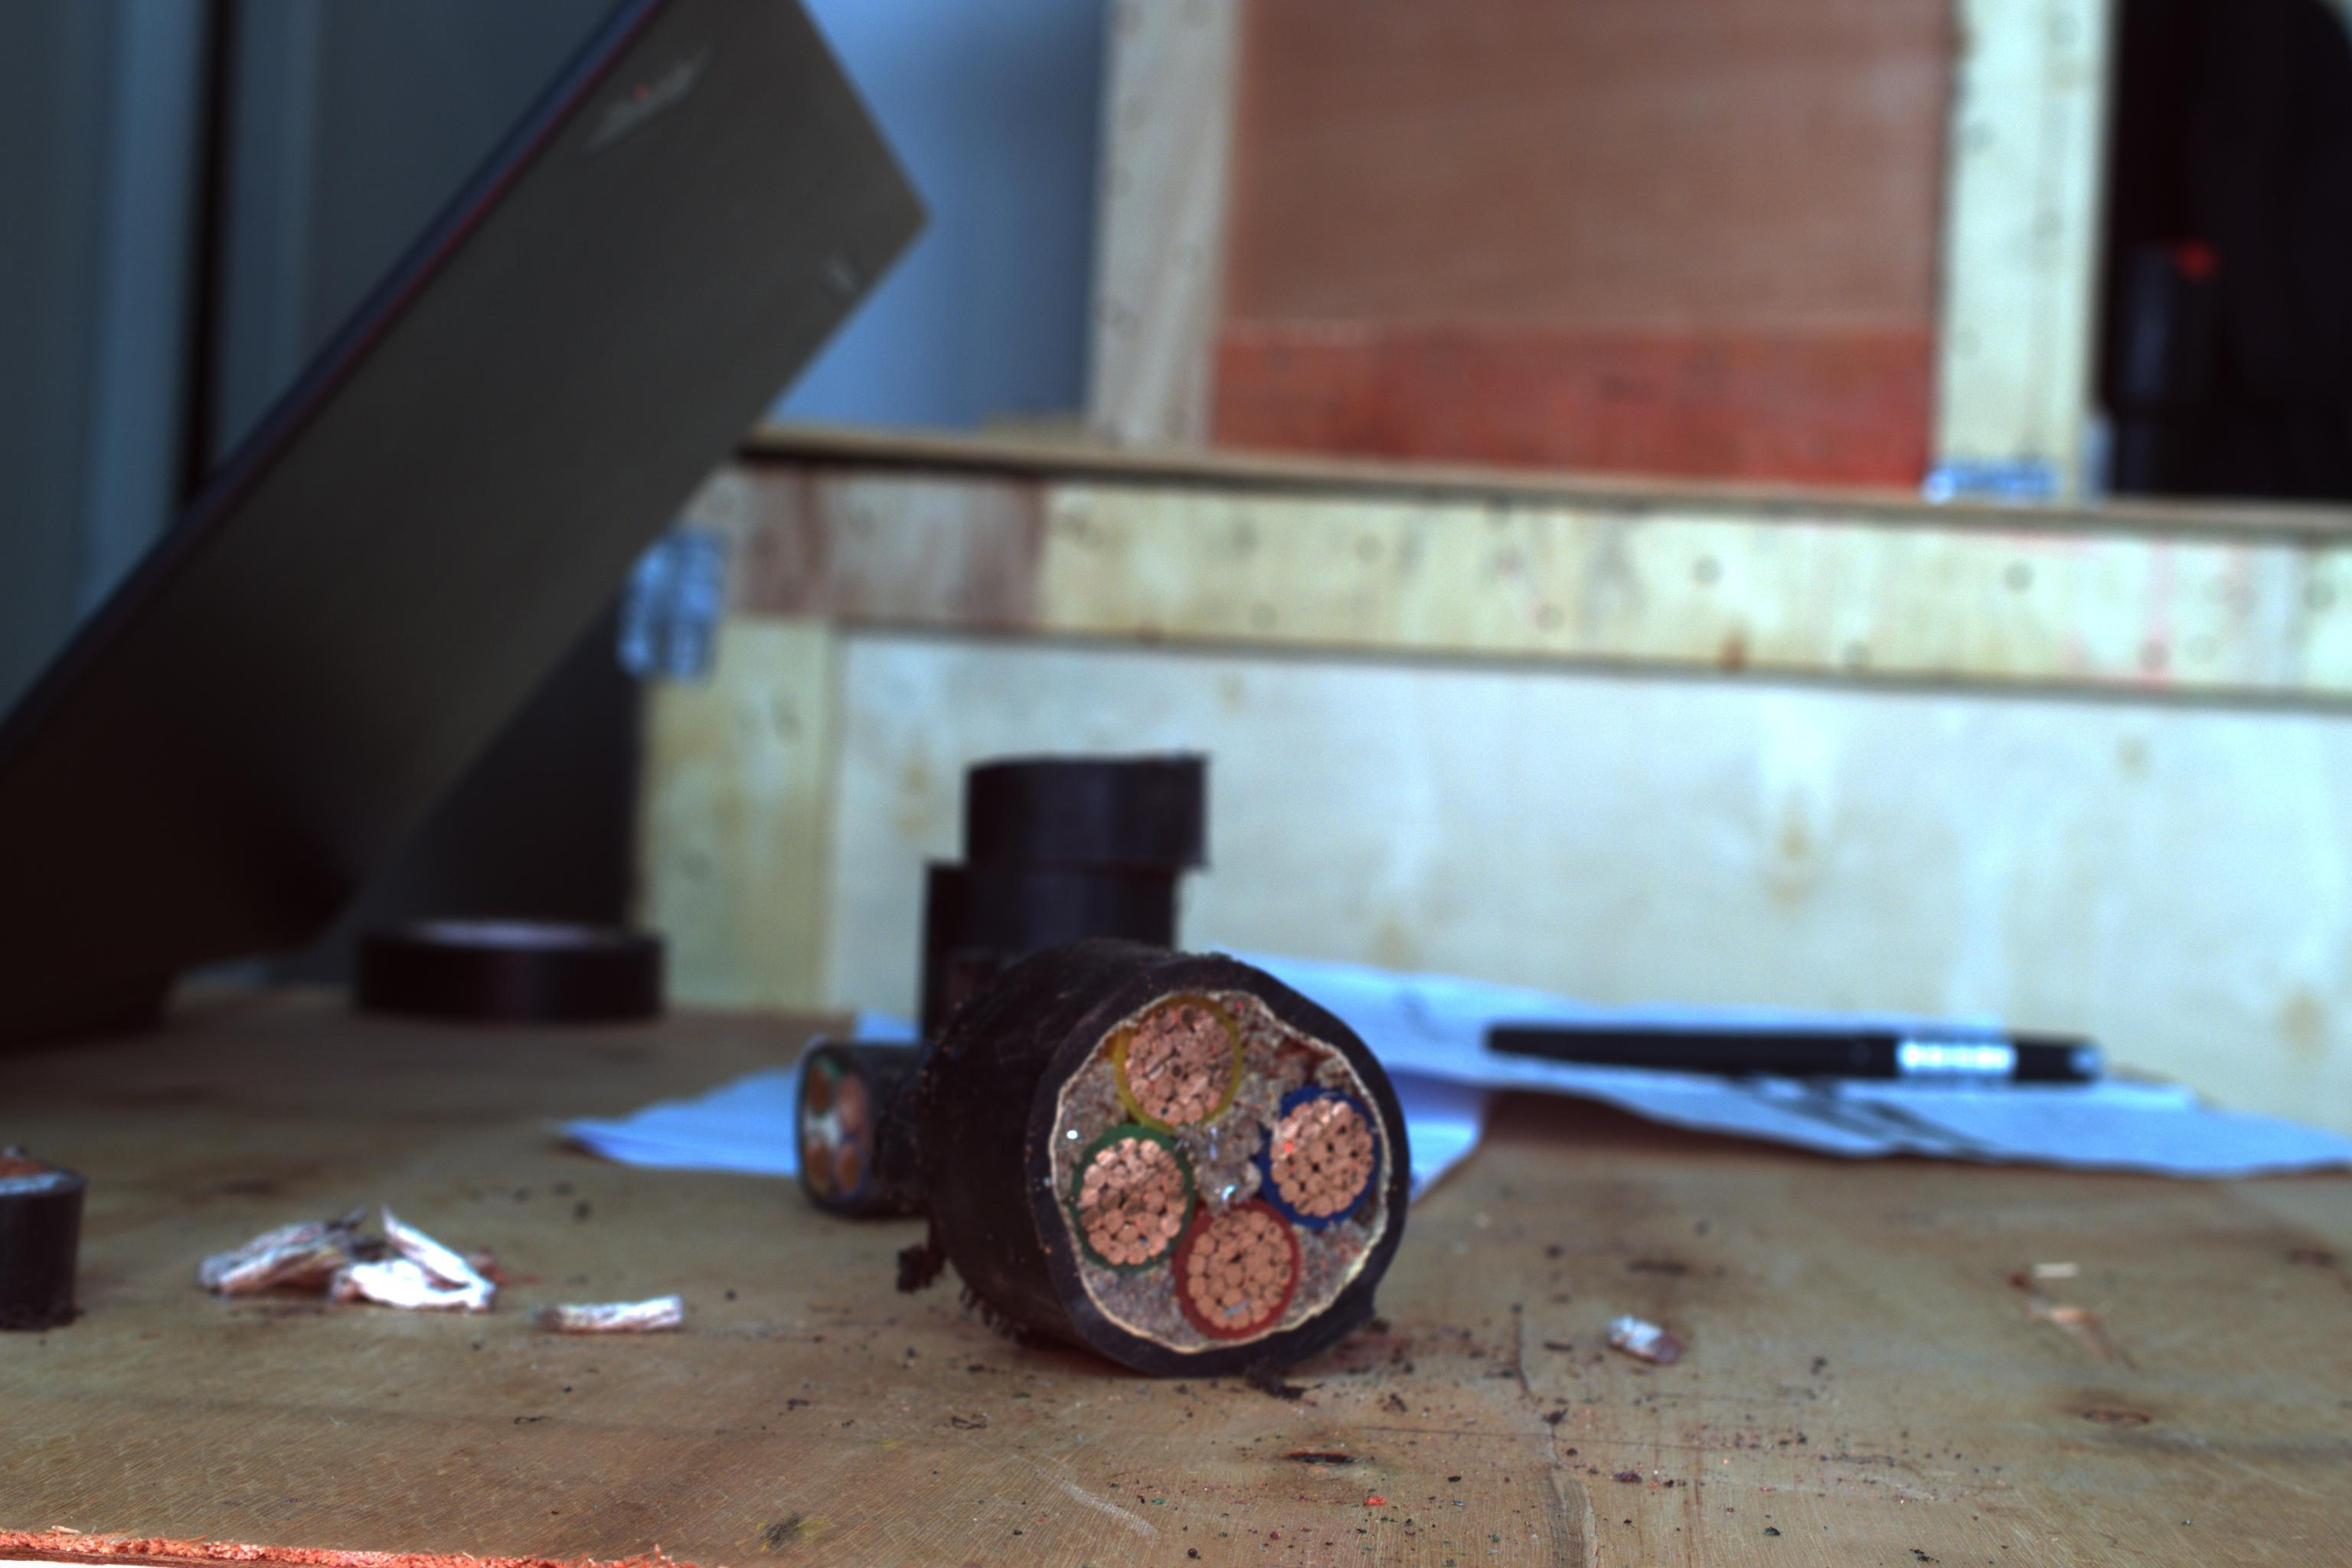YJV_0.6_1kV_4x120: (1025, 948, 1400, 1339)
